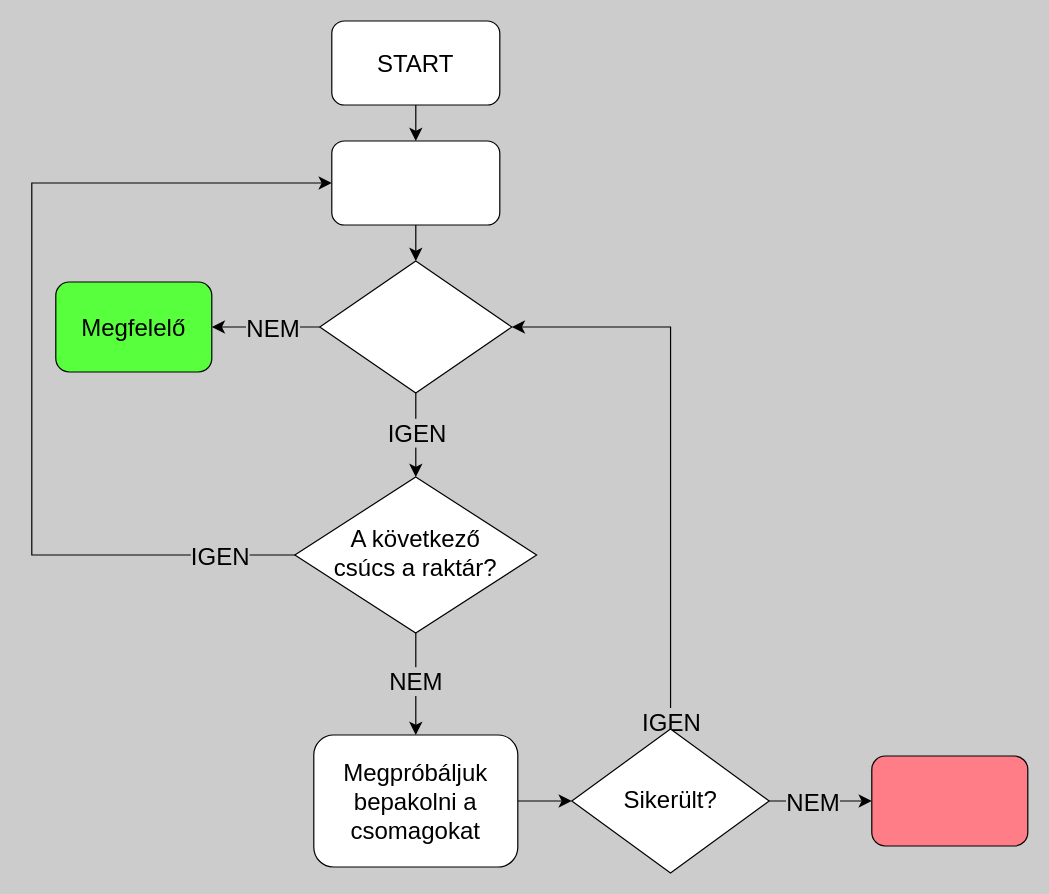
This 1049x894 diagram has some shape labels left out. Each missing label, with the box of its shape:
csomagok := 0: (331, 140, 500, 225)
Maradt még csúcs?: (319, 260, 512, 393)
Nem megfelelő: (871, 755, 1028, 846)
